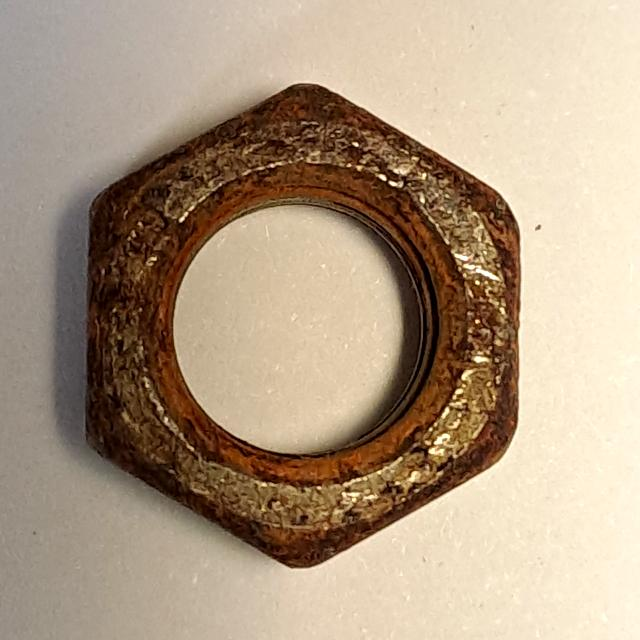Rust: (72, 68, 533, 592)
